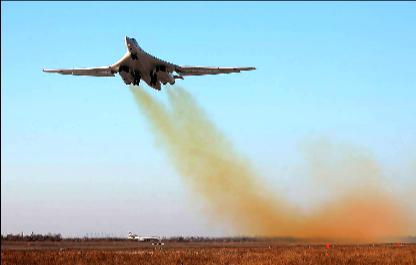Su34: (43, 36, 257, 90), (126, 231, 166, 241)
